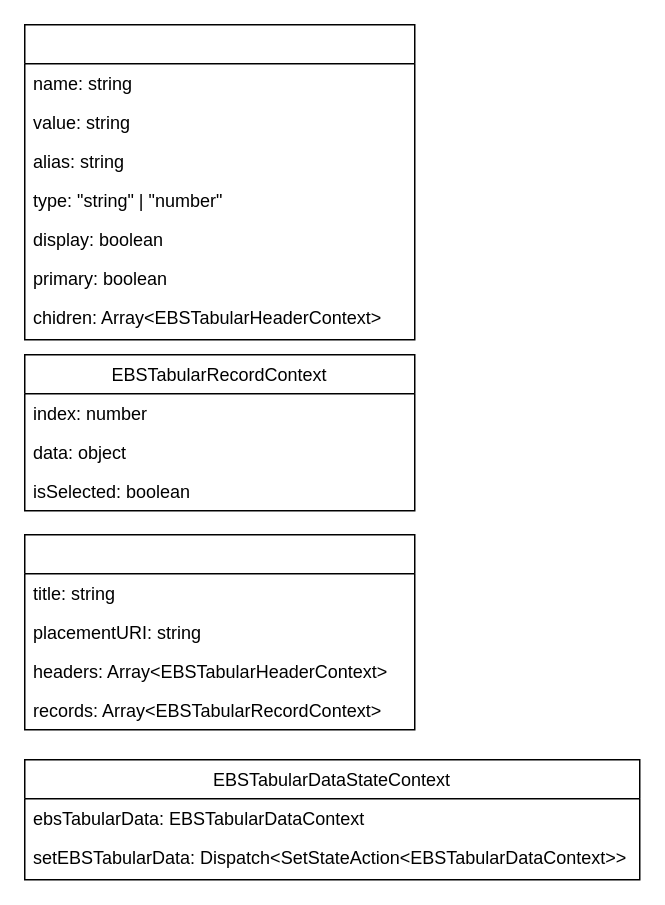
This 665x905 diagram has some shape labels left out. The box of each missing label's shape, as (x1, y1, x2, y2) in pixels:
EBSTabularDataContext: (23, 533, 415, 730)
EBSTabularHeaderContext: (23, 23, 415, 340)
